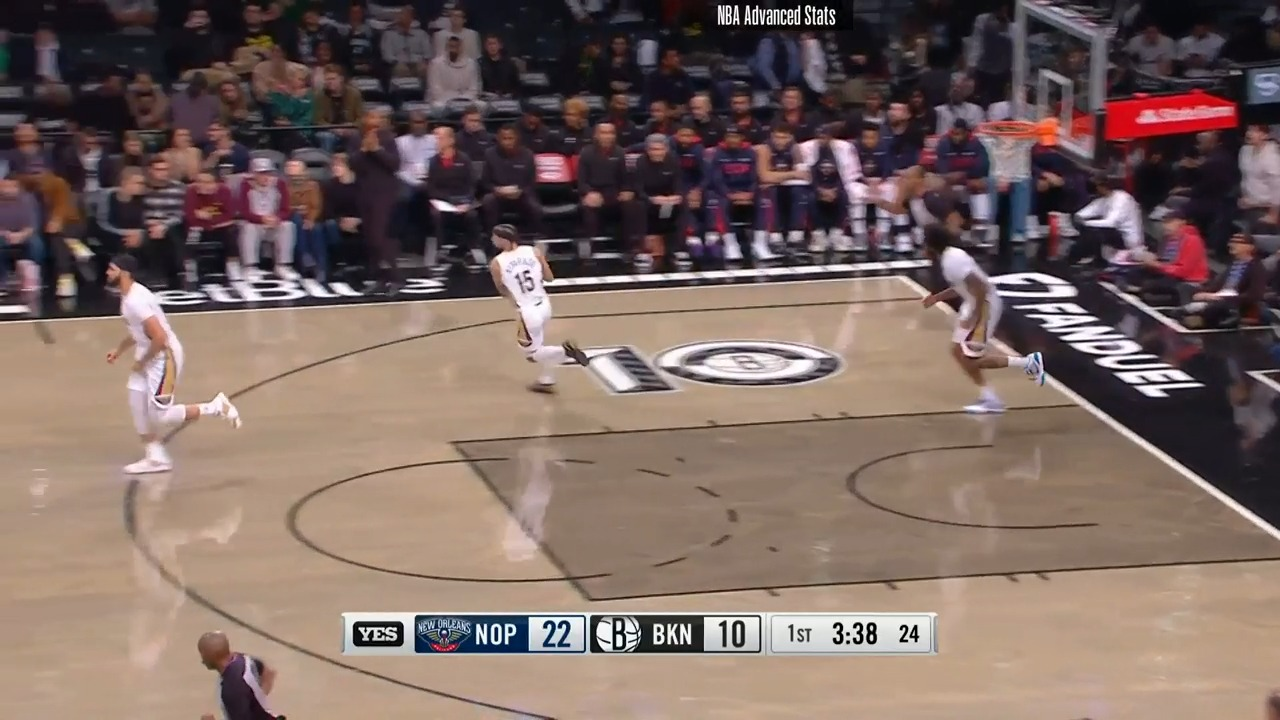net: (976, 98, 1081, 193)
player: (86, 257, 243, 486), (910, 215, 1047, 422), (464, 218, 610, 405)
referee: (191, 626, 296, 720)
